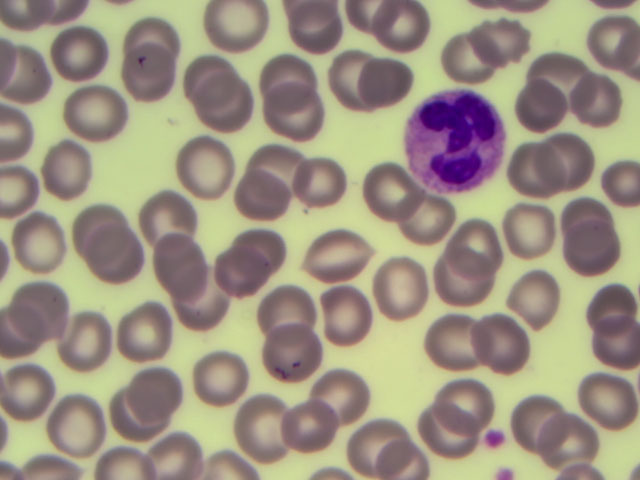Platelets: (481, 425, 509, 450), (493, 461, 516, 480)
RBC: (1, 40, 54, 109), (369, 423, 431, 480), (133, 423, 195, 480), (47, 25, 109, 81), (66, 83, 128, 139), (46, 140, 108, 196), (8, 208, 70, 264), (62, 193, 124, 249), (81, 225, 143, 281), (131, 185, 193, 241), (173, 130, 235, 186), (198, 80, 260, 136), (178, 45, 240, 101), (125, 47, 187, 103), (122, 7, 184, 63), (254, 47, 316, 103), (263, 87, 325, 143), (250, 134, 312, 190), (235, 159, 297, 215), (291, 156, 353, 212), (234, 216, 296, 272), (215, 240, 277, 296), (175, 276, 237, 332), (148, 233, 210, 289), (110, 307, 172, 363), (68, 312, 130, 368), (12, 276, 74, 332), (40, 390, 102, 446), (107, 391, 169, 447), (139, 365, 201, 421), (194, 345, 256, 401), (251, 327, 313, 383), (261, 278, 323, 334), (316, 287, 378, 343), (307, 221, 369, 277), (363, 266, 425, 322), (397, 196, 459, 252), (364, 161, 426, 217), (428, 249, 490, 305), (448, 215, 510, 271), (476, 313, 538, 369), (434, 313, 496, 369), (439, 370, 501, 426), (420, 396, 482, 452), (276, 405, 338, 461), (310, 371, 372, 427), (233, 397, 295, 453), (501, 390, 563, 446), (529, 410, 591, 466), (575, 375, 637, 431), (578, 318, 640, 374), (578, 284, 640, 340), (567, 223, 629, 279), (552, 186, 614, 242), (514, 204, 576, 260), (509, 272, 571, 328), (578, 161, 640, 217), (555, 130, 617, 186), (511, 143, 573, 199), (514, 84, 576, 140), (562, 67, 624, 123), (532, 45, 594, 101), (578, 11, 640, 67), (476, 14, 538, 70), (447, 29, 509, 85), (361, 52, 423, 108), (334, 52, 396, 108), (372, 5, 434, 61), (280, 3, 342, 59), (1, 358, 62, 414), (207, 1, 269, 56)
WBC: (406, 88, 513, 197)
